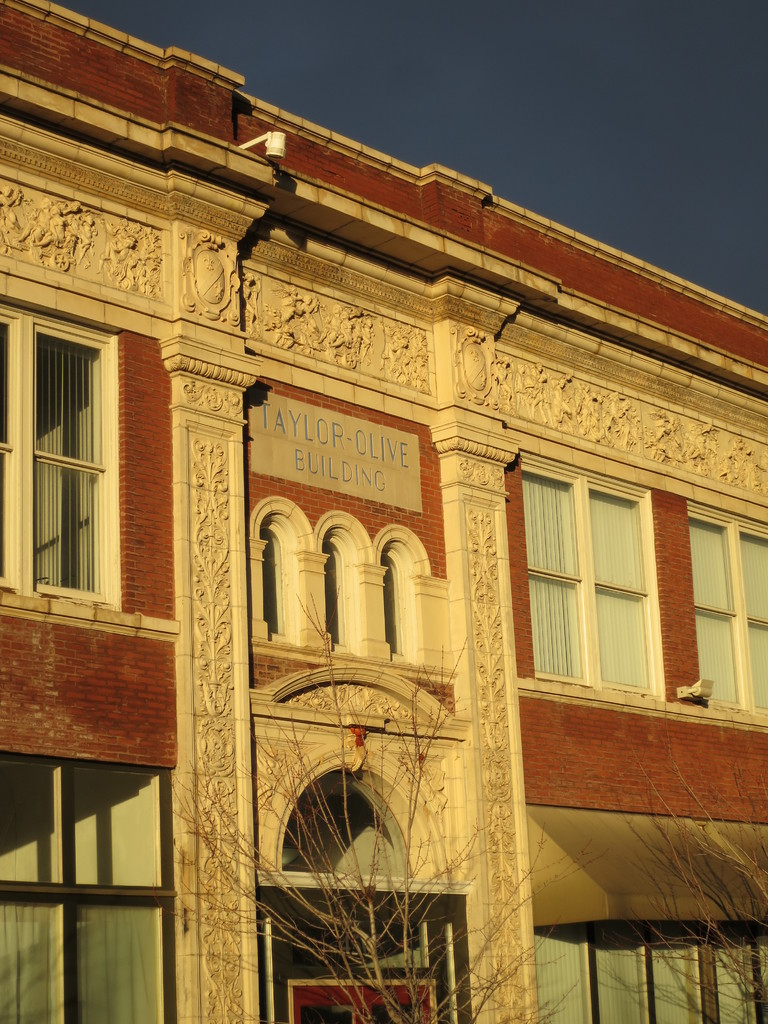Tree: (183, 590, 538, 1023), (620, 766, 767, 1023)
